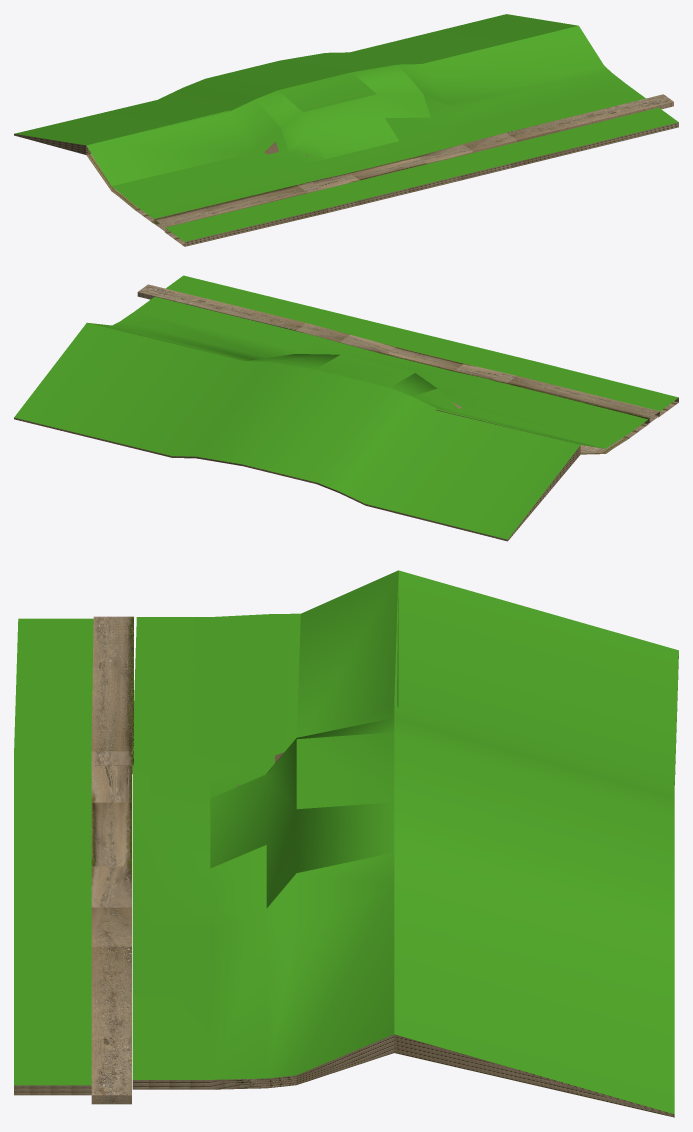
The model's file is scenetest.fbx.
3 renders of one model, top to bottom at view 1: azimuth 30°, elevation 25°; view 2: azimuth 150°, elevation 25°; view 3: azimuth 270°, elevation 25°, orthographic. The views are drawn at different scales.
Parts seen in each view (by area): view 1: Mesh (3), Mesh (4), Mesh (2); view 2: Mesh (3), Mesh (4), Mesh (2); view 3: Mesh (3), Mesh (4), Mesh (2).
Part boxes in pixels (left/top/right/bottom): Mesh (3): left=14, top=14, right=645, bottom=223; Mesh (4): left=165, top=107, right=678, bottom=246; Mesh (2): left=154, top=94, right=673, bottom=231; Mesh (3): left=14, top=297, right=648, bottom=541; Mesh (4): left=166, top=275, right=678, bottom=417; Mesh (2): left=137, top=284, right=659, bottom=423; Mesh (3): left=132, top=570, right=678, bottom=1117; Mesh (4): left=14, top=618, right=93, bottom=1095; Mesh (2): left=91, top=616, right=133, bottom=1104.
Bounding box in the file's own units: 14705 × 1448 × 8582.
2 materials, 2 textured.
